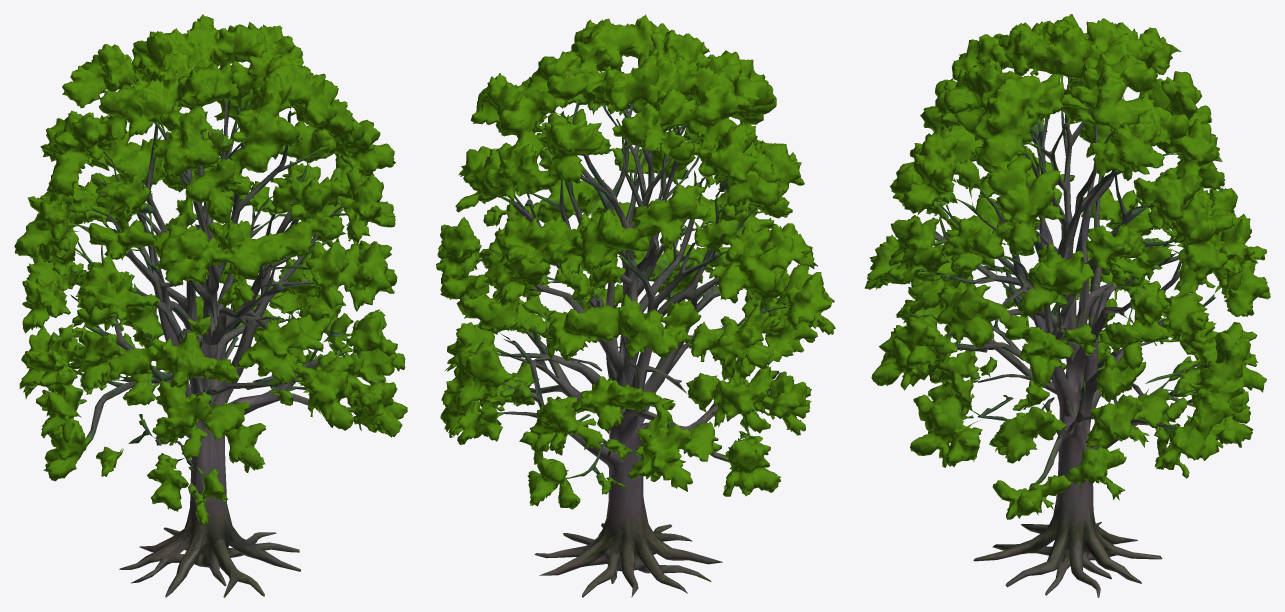
The model's file is cathedral-european-beech-r2_semantic.glb.
The picture shows the model from 3 angles, left to right: view 1: azimuth 30°, elevation 25°; view 2: azimuth 150°, elevation 25°; view 3: azimuth 270°, elevation 25°; orthographic projection.
Visible parts, largest first — view 1: Mesh_0.001; view 2: Mesh_0.001; view 3: Mesh_0.001.
Boxes of the visible parts, box(x1,y1,x2,y2) form: Mesh_0.001: box(14, 14, 407, 597); Mesh_0.001: box(436, 14, 835, 597); Mesh_0.001: box(864, 14, 1270, 597).
Bounding box in the file's own units: 12.23 × 18 × 12.68.
2 materials, 2 textured.
